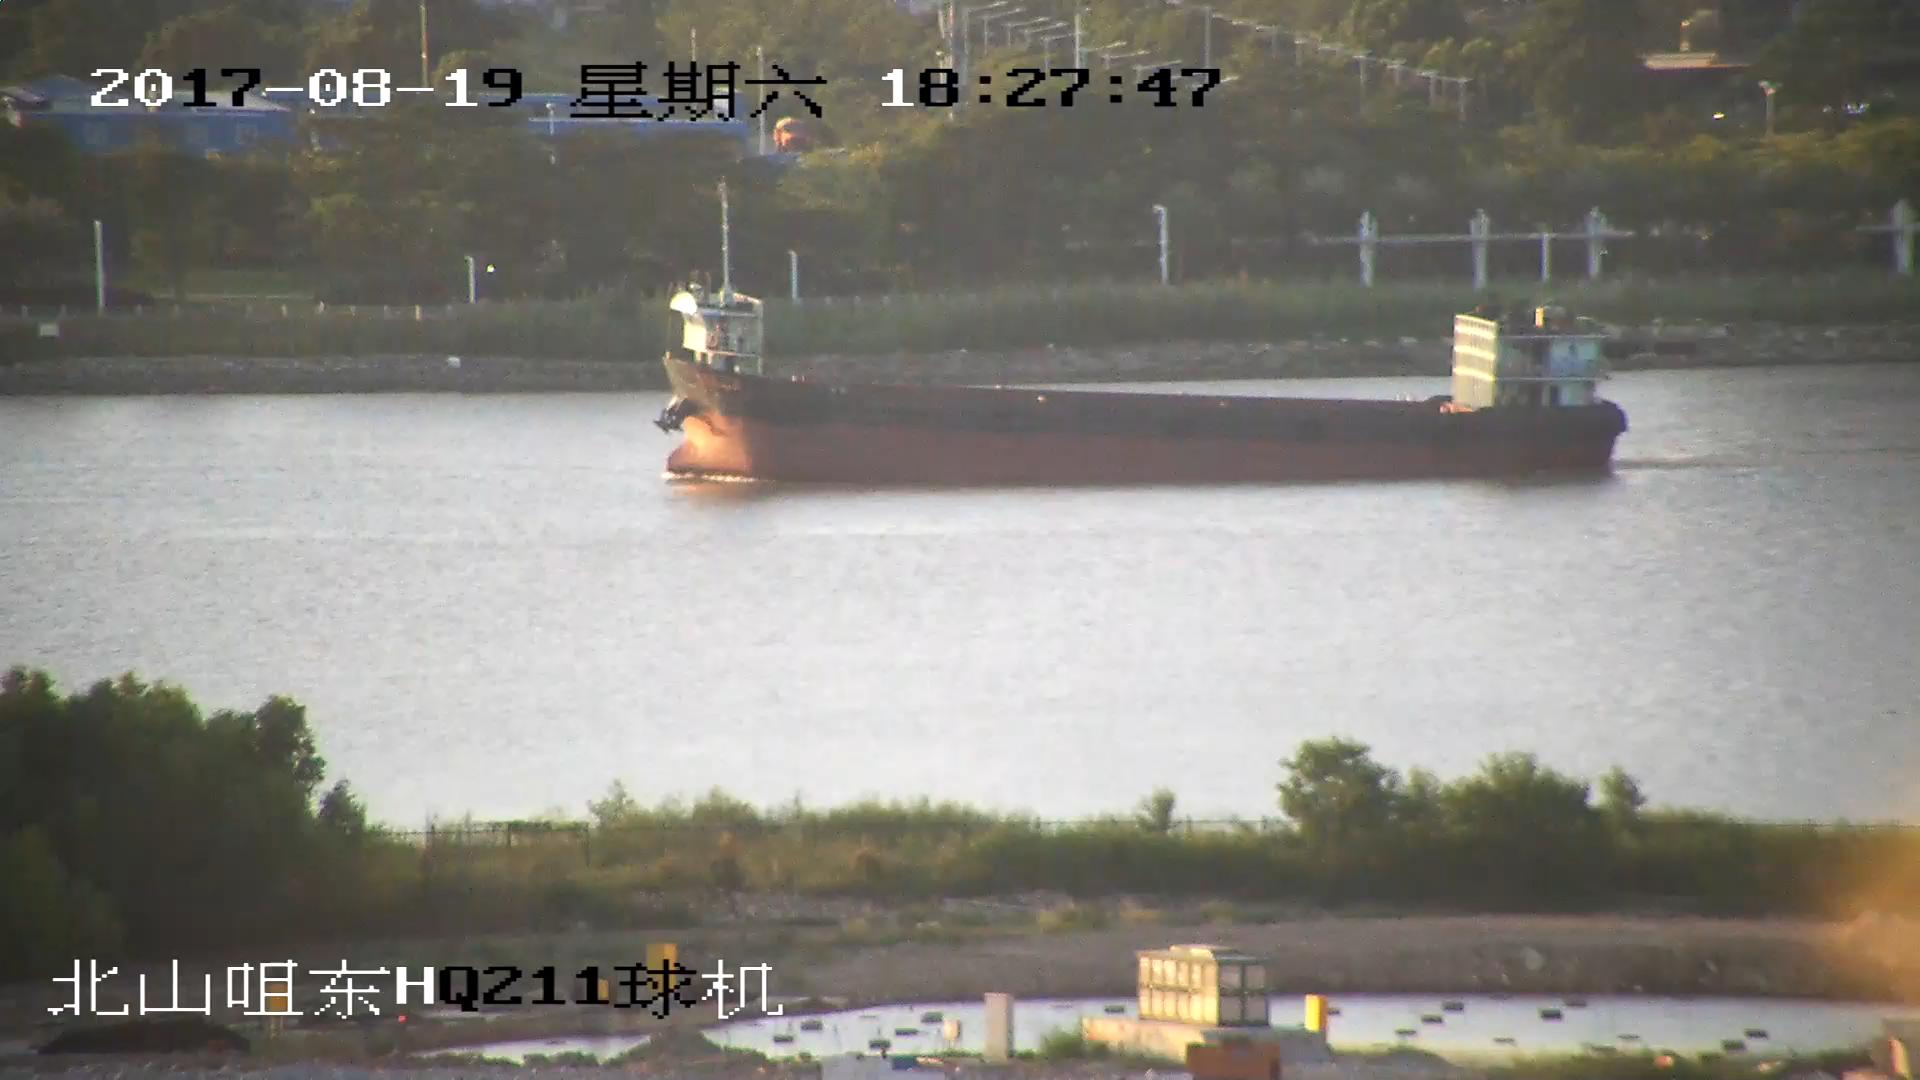general cargo ship: (661, 281, 1615, 471)
